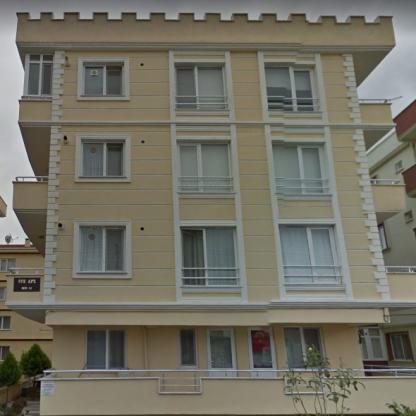door: (246, 326, 279, 377), (207, 329, 237, 377)
window: (279, 223, 344, 287), (180, 226, 240, 289), (272, 139, 329, 195), (178, 139, 233, 191), (265, 62, 321, 113), (174, 63, 229, 110), (78, 225, 125, 274), (284, 324, 325, 370), (78, 138, 124, 177), (86, 329, 126, 370), (23, 53, 53, 100), (83, 62, 123, 96), (360, 327, 389, 361), (385, 330, 412, 360), (179, 328, 197, 368), (379, 221, 387, 251), (1, 258, 14, 271), (404, 210, 414, 223), (1, 316, 10, 330), (1, 286, 6, 300), (396, 162, 402, 172)
